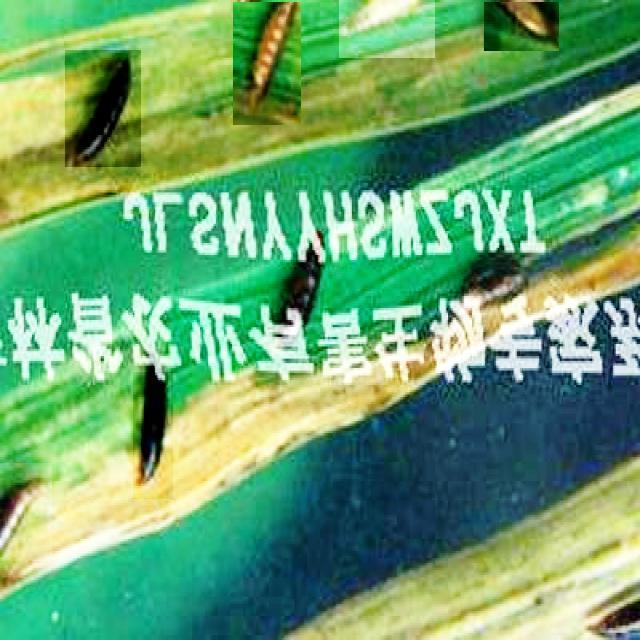whorl-maggot: (65, 50, 141, 167), (233, 2, 301, 125), (339, 0, 435, 58), (1, 464, 53, 562), (133, 372, 173, 499), (484, 2, 559, 51)
